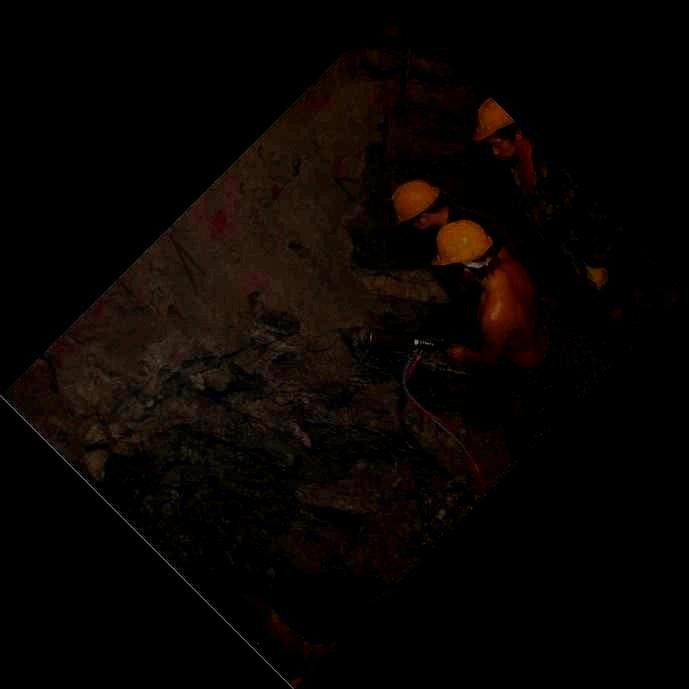helmet: (433, 219, 494, 282), (474, 96, 526, 157), (391, 180, 445, 229)
